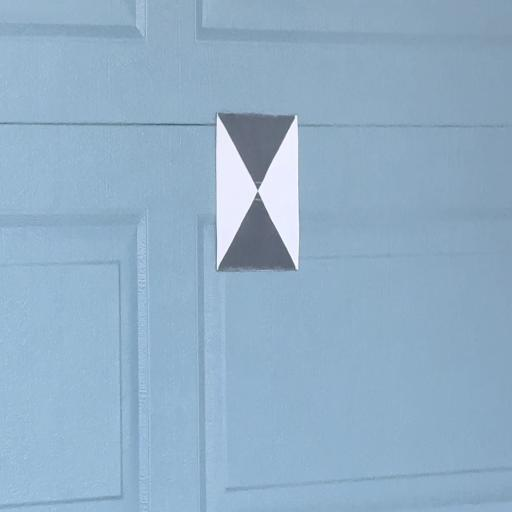target: (217, 112, 299, 271)
